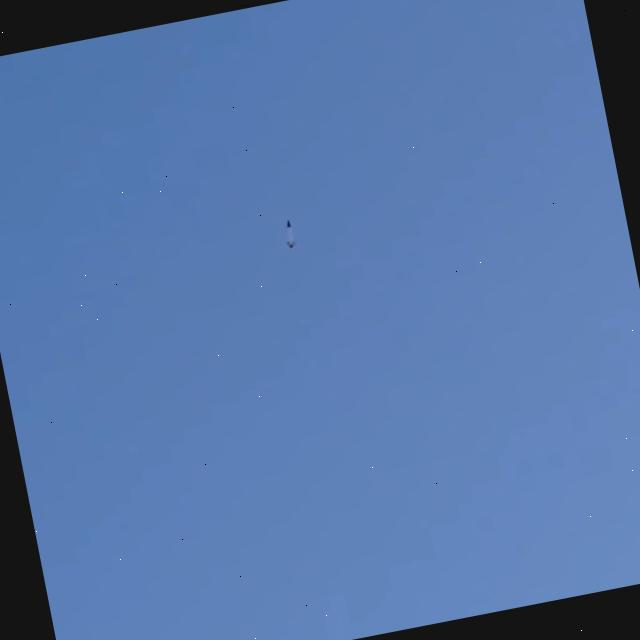rocket: (285, 221, 296, 250)
